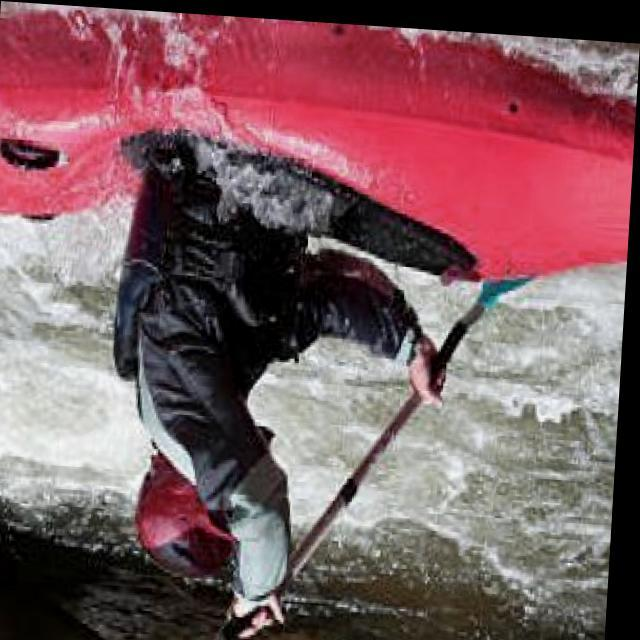kayak: (0, 9, 637, 275)
